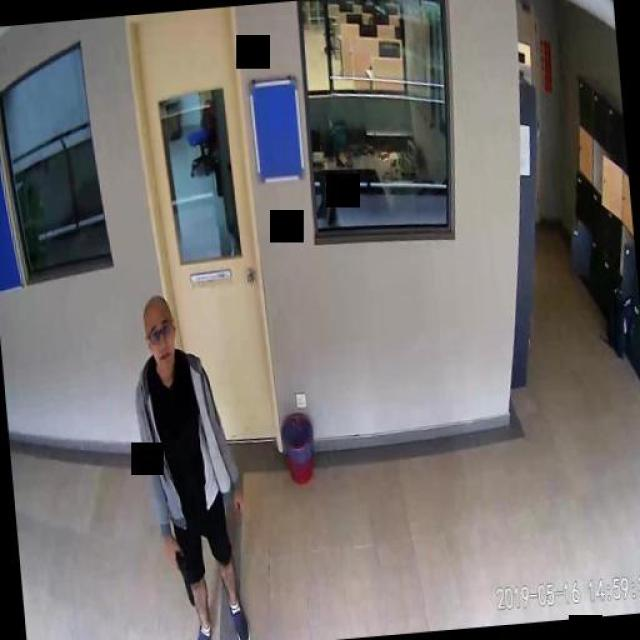gun: (171, 541, 191, 605)
